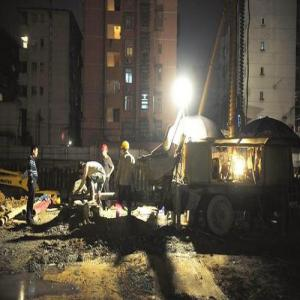none: (31, 144, 40, 160), (79, 160, 87, 175)
red: (101, 143, 109, 159)
yellow: (122, 140, 131, 154)
